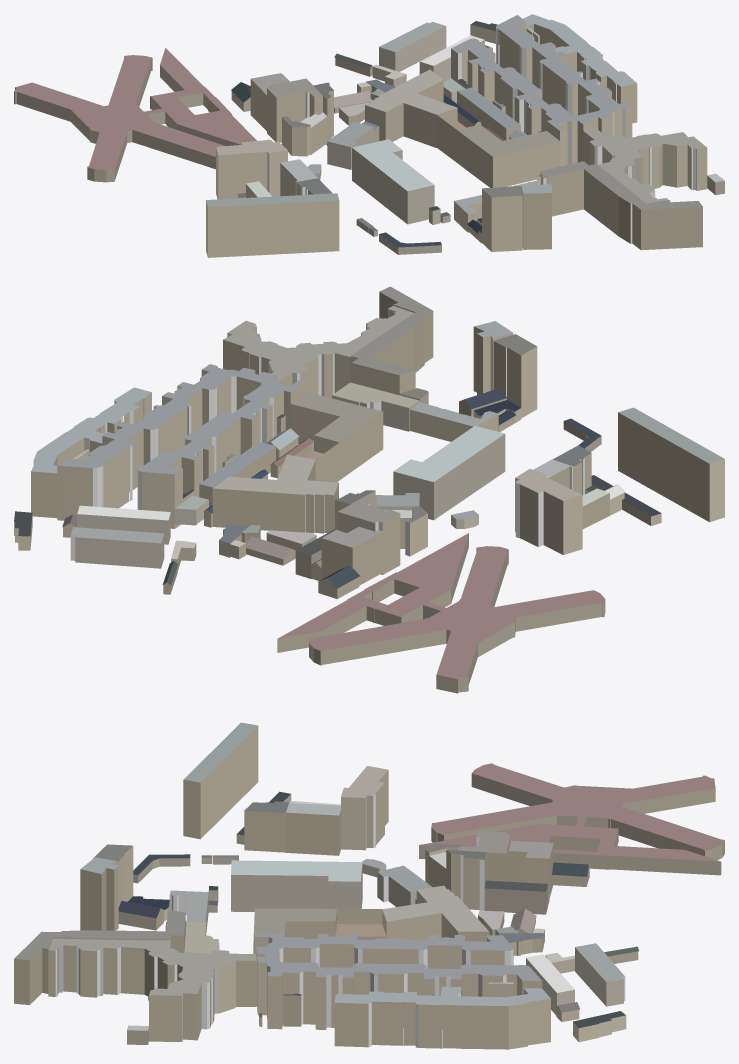
3 renders of one model, top to bottom at view 1: azimuth 30°, elevation 25°; view 2: azimuth 150°, elevation 25°; view 3: azimuth 270°, elevation 25°, orthographic. The views are drawn at different scales.
Visible parts, largest first — view 1: tuile; view 2: tuile; view 3: tuile.
Boxes of the visible parts, box(x1,y1,x2,y2) form: tuile: box(14, 14, 724, 257); tuile: box(14, 286, 724, 693); tuile: box(14, 722, 724, 1049).
Size of the model in its own units: 293 by 36.97 by 334.
